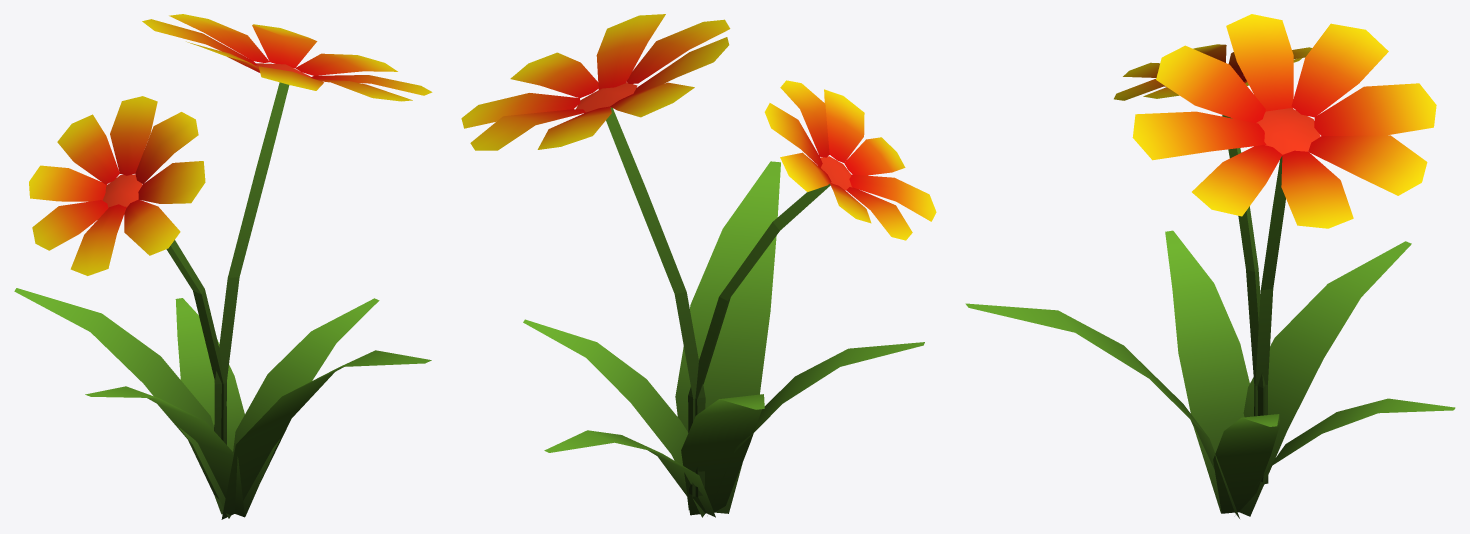
Rendered from VEG0310025.fbx.
3 views of the same model, side by side, from view 1: azimuth 30°, elevation 25°; view 2: azimuth 150°, elevation 25°; view 3: azimuth 270°, elevation 25° (orthographic). The views are drawn at different scales.
Visible parts, largest first — view 1: smVEG0310025; view 2: smVEG0310025; view 3: smVEG0310025.
Boxes of the visible parts, x1,y1,x2,y2 form: smVEG0310025: [14, 14, 432, 519]; smVEG0310025: [461, 14, 936, 517]; smVEG0310025: [965, 14, 1455, 518].
Bounding box in the file's own units: 40.67 × 46.56 × 42.78.
1 material, 1 textured.
